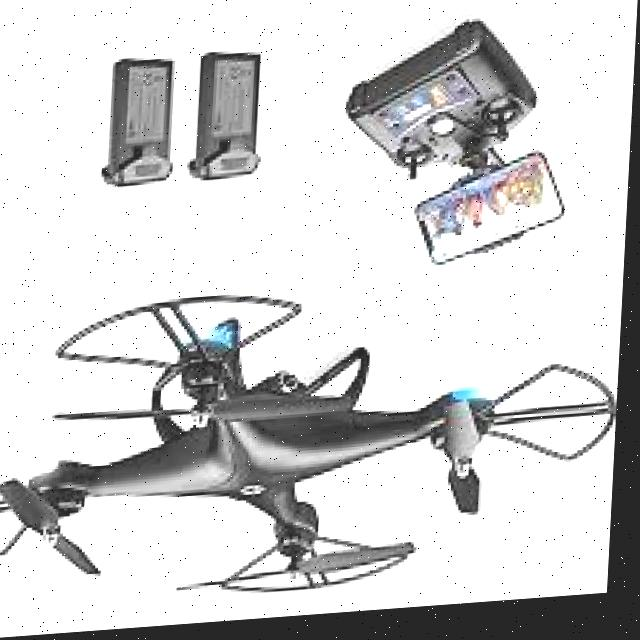drone: (0, 251, 628, 640)
